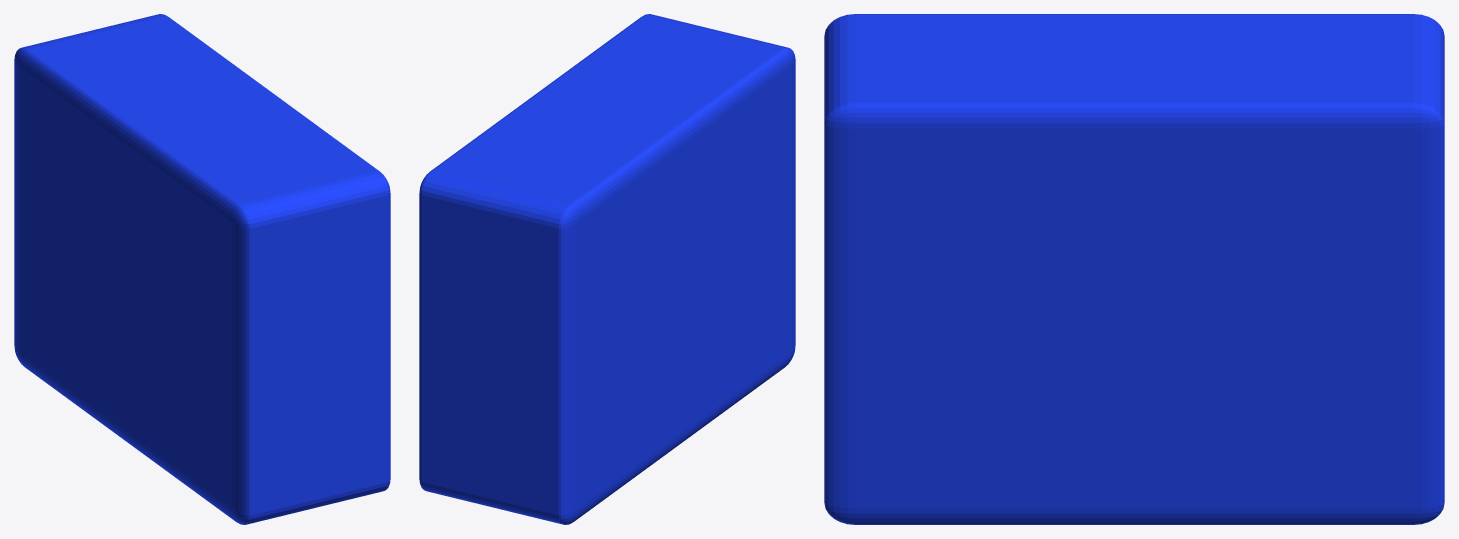
The model's file is Ear.glb.
3 renders of one model, left to right at view 1: azimuth 30°, elevation 25°; view 2: azimuth 150°, elevation 25°; view 3: azimuth 270°, elevation 25°, orthographic. The views are drawn at different scales.
Parts seen in each view (by area): view 1: Cube; view 2: Cube; view 3: Cube.
Boxes of the visible parts, bbox=[...] form: Cube: bbox=[14, 14, 390, 524]; Cube: bbox=[419, 14, 795, 524]; Cube: bbox=[824, 14, 1444, 524].
Bounding box in the file's own units: 0.3 × 0.6 × 0.8.
